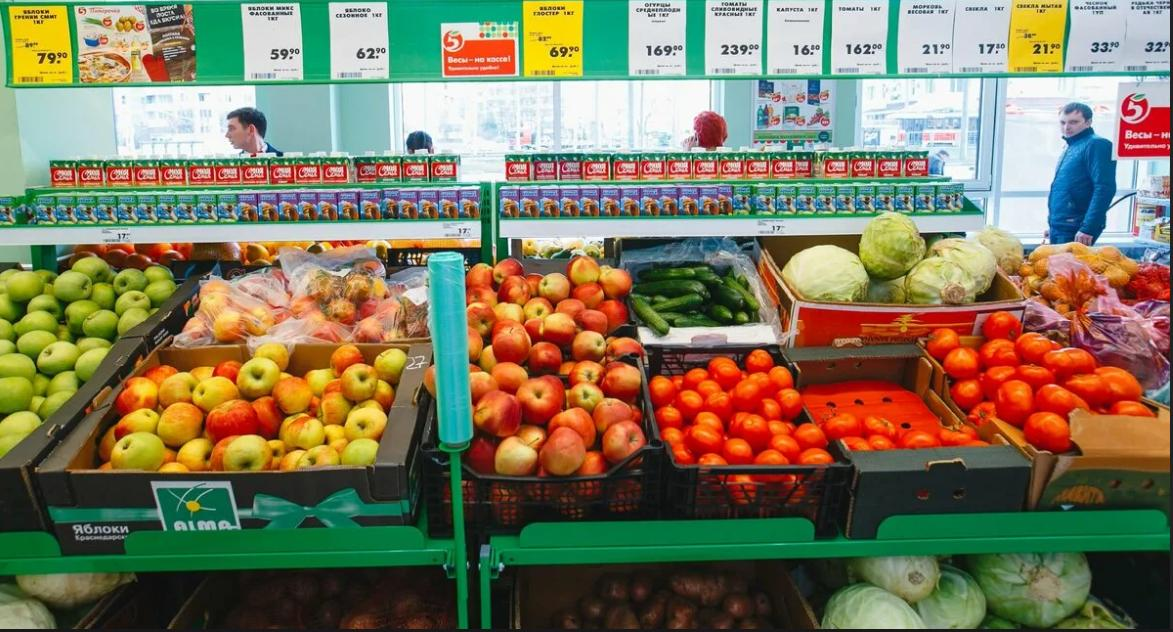cucumber: (631, 258, 764, 332)
green apple: (0, 255, 174, 462)
potato: (522, 570, 783, 630), (192, 572, 452, 632), (1016, 240, 1152, 302)
red apple: (463, 262, 652, 500), (94, 342, 405, 478), (183, 250, 404, 342)
tomato: (925, 309, 1157, 454), (656, 343, 821, 488), (829, 416, 1009, 460)
